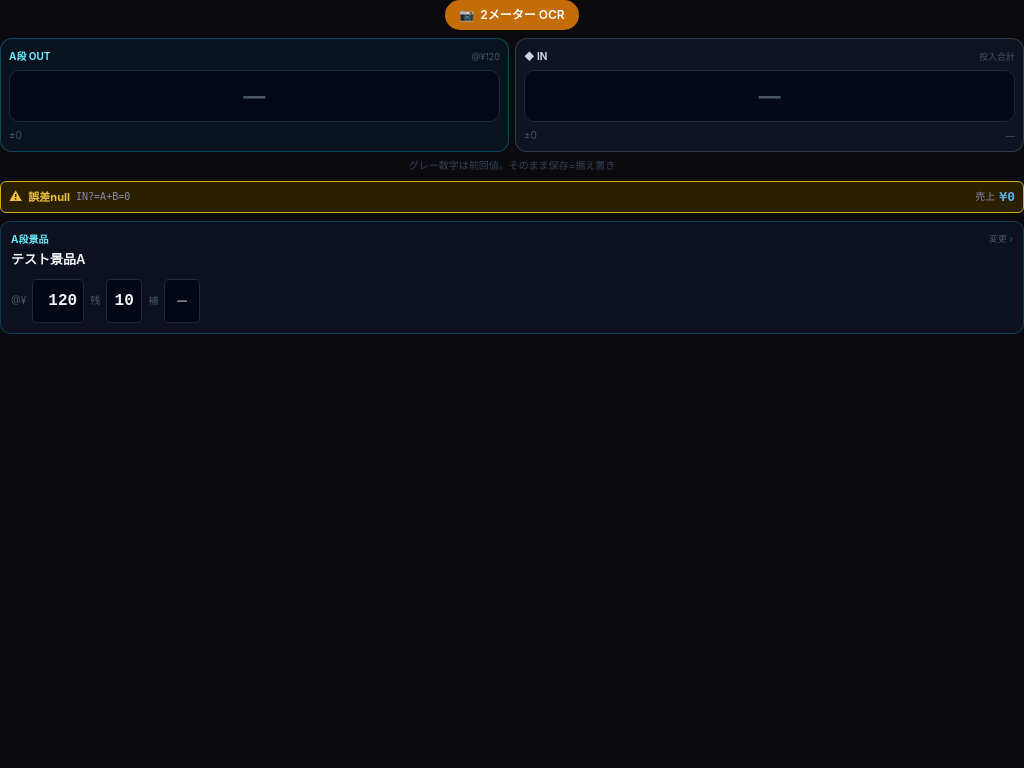
Test: GachaInputV3 — 景品変更モーダルの誤発火防止 › 「変更 ›」タップで景品変更モーダルが開く
Expected: the text "A段 景品変更" is not shown
PrizeCard の「変更 ›」スパンをクリック（stopPropagation 外）
What coordinates should you click on to do the following:
click the text "変更 ›"
I would click on:
 (1001, 239)
Its box is [989,232,1013,246].
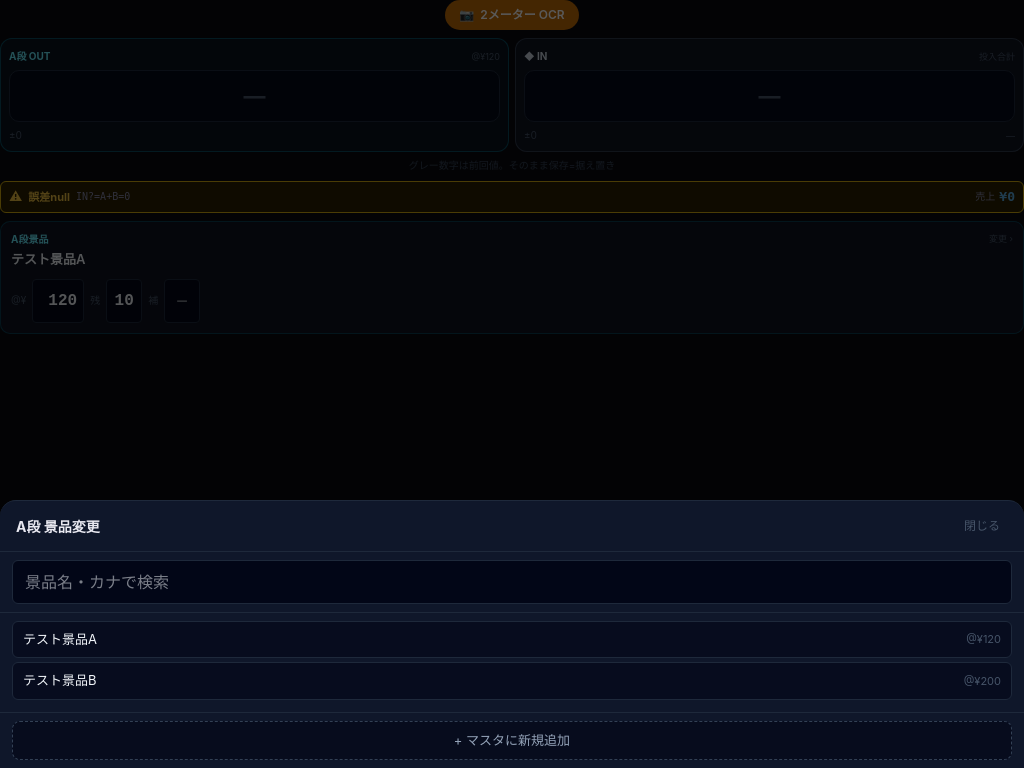
Now the text "A段 景品変更" is shown, box [16,515,100,536]
